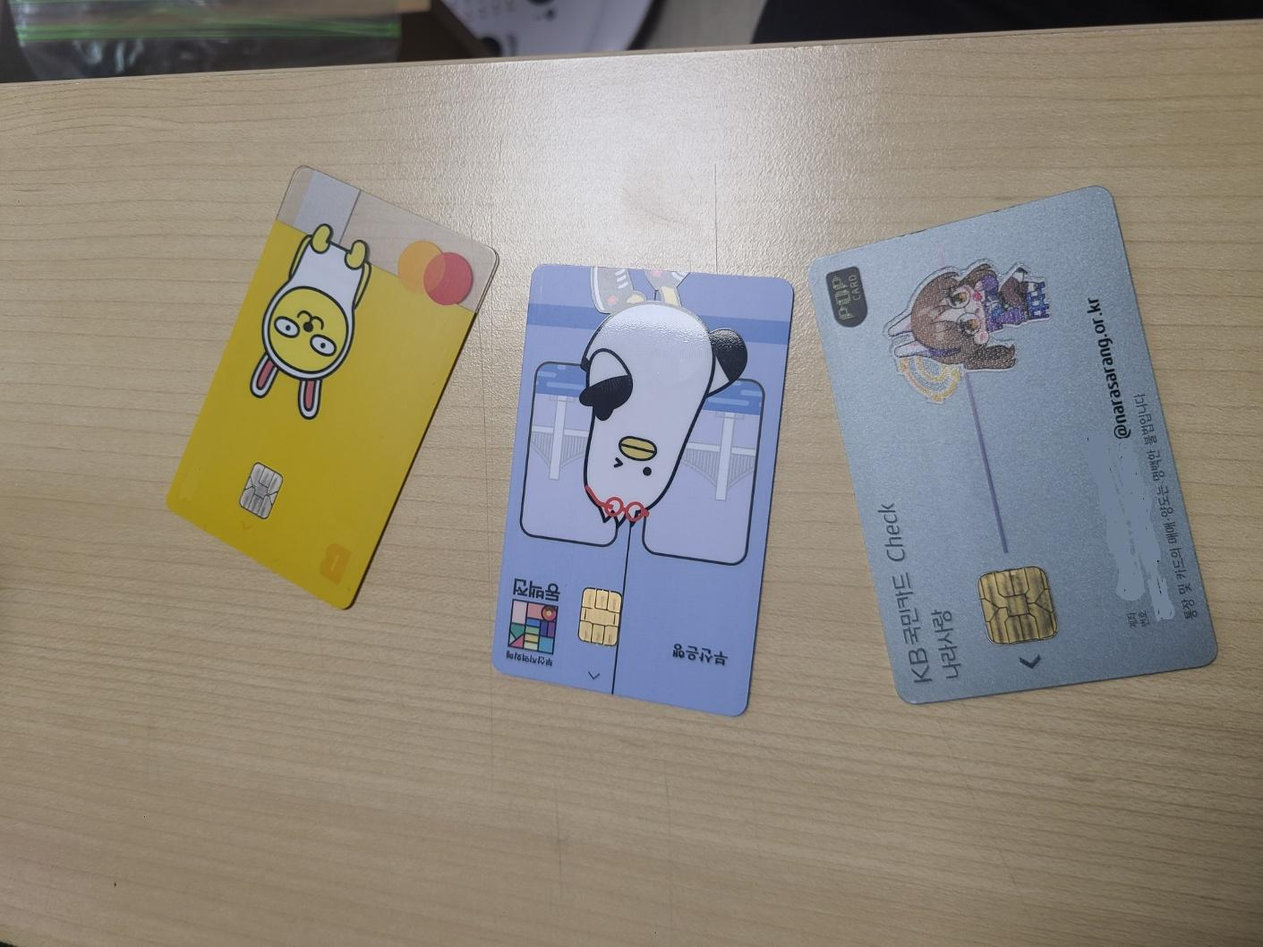Credit_card: (810, 186, 1216, 703), (168, 167, 498, 608), (493, 264, 792, 715)
